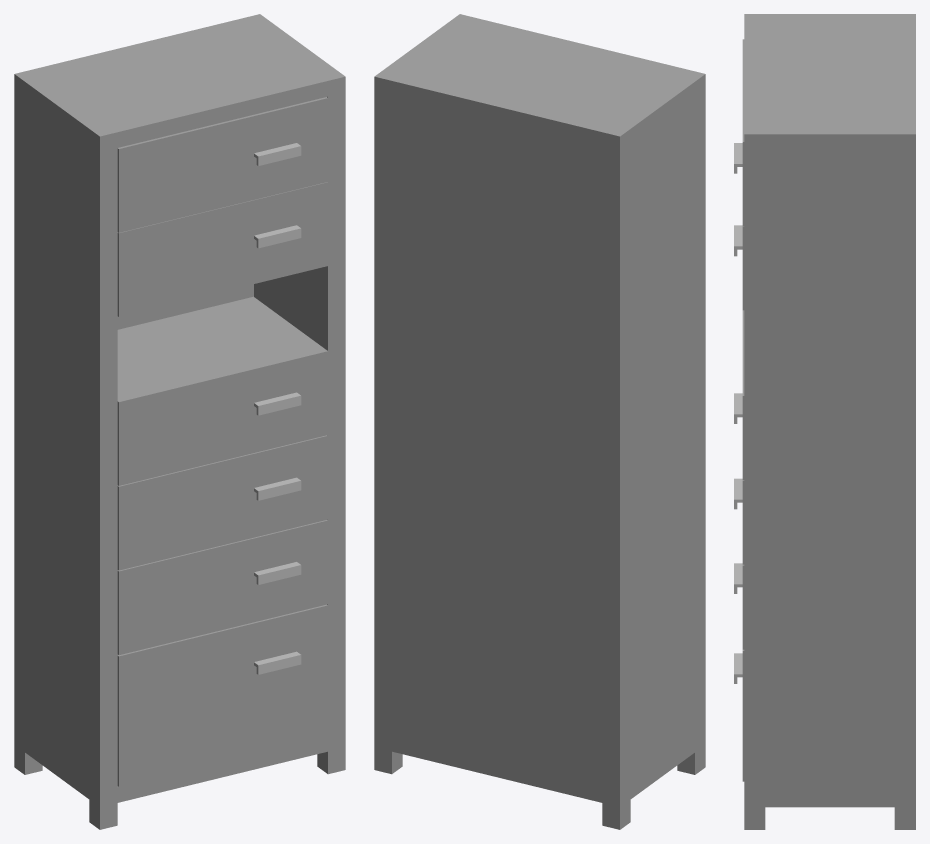
File: P_Filing_Cabinet.fbx
The picture shows the model from 3 angles, left to right: view 1: azimuth 30°, elevation 25°; view 2: azimuth 150°, elevation 25°; view 3: azimuth 270°, elevation 25°; orthographic projection.
Visible parts, largest first — view 1: P_Filing_Cabinet; view 2: P_Filing_Cabinet; view 3: P_Filing_Cabinet.
Boxes of the visible parts, x1,y1,x2,y2 form: P_Filing_Cabinet: (14,14,345,829); P_Filing_Cabinet: (374,14,705,829); P_Filing_Cabinet: (734,14,915,829).
Size of the model in its own units: 383 by 245 by 1034.
